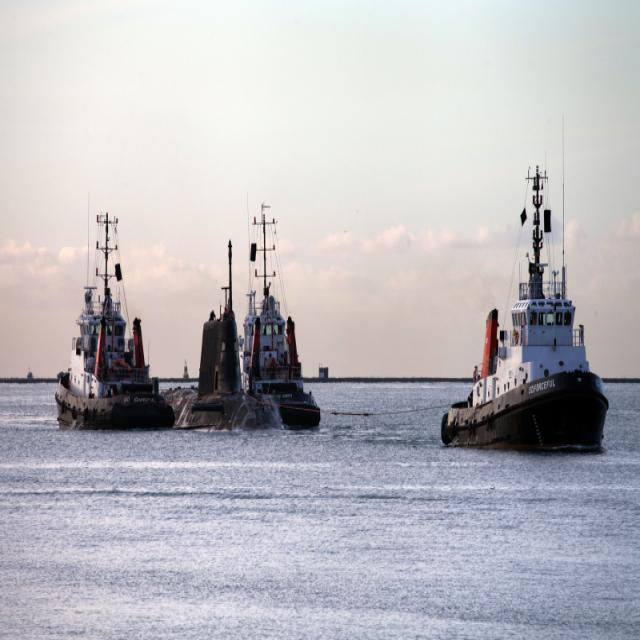submarine: (163, 220, 283, 429)
